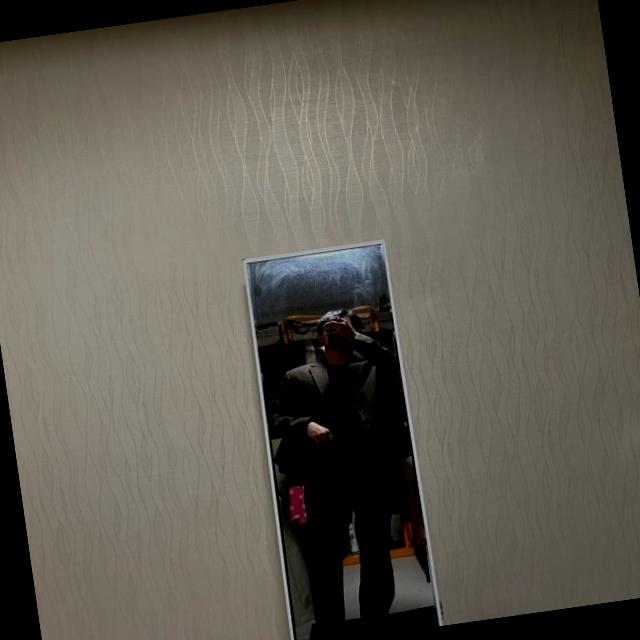blazer: (256, 327, 413, 480)
slacks: (286, 437, 412, 640)
